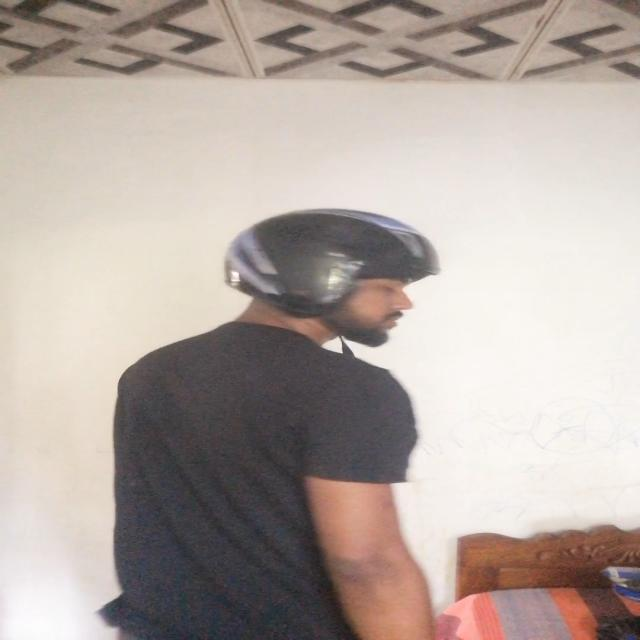Helmet_Wearer: (204, 195, 440, 368)
Person: (96, 218, 502, 640)
